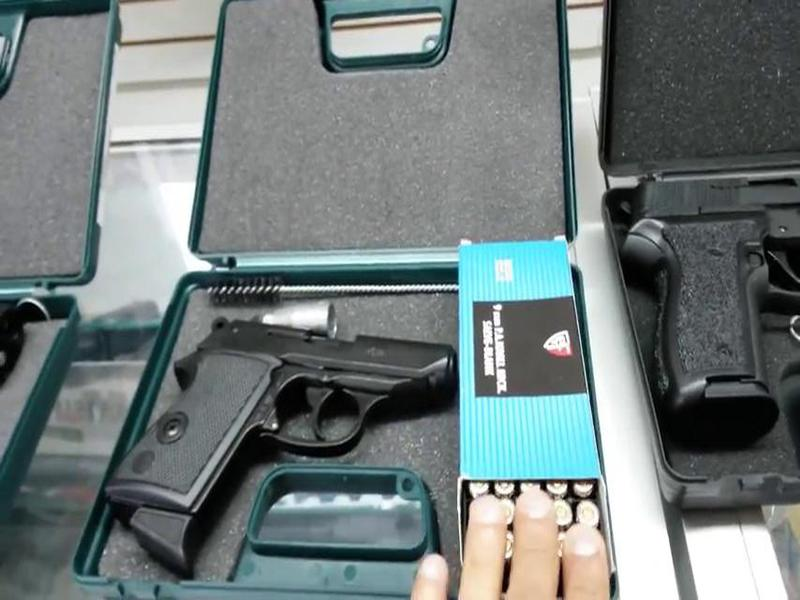Pistola: (121, 296, 454, 545)
